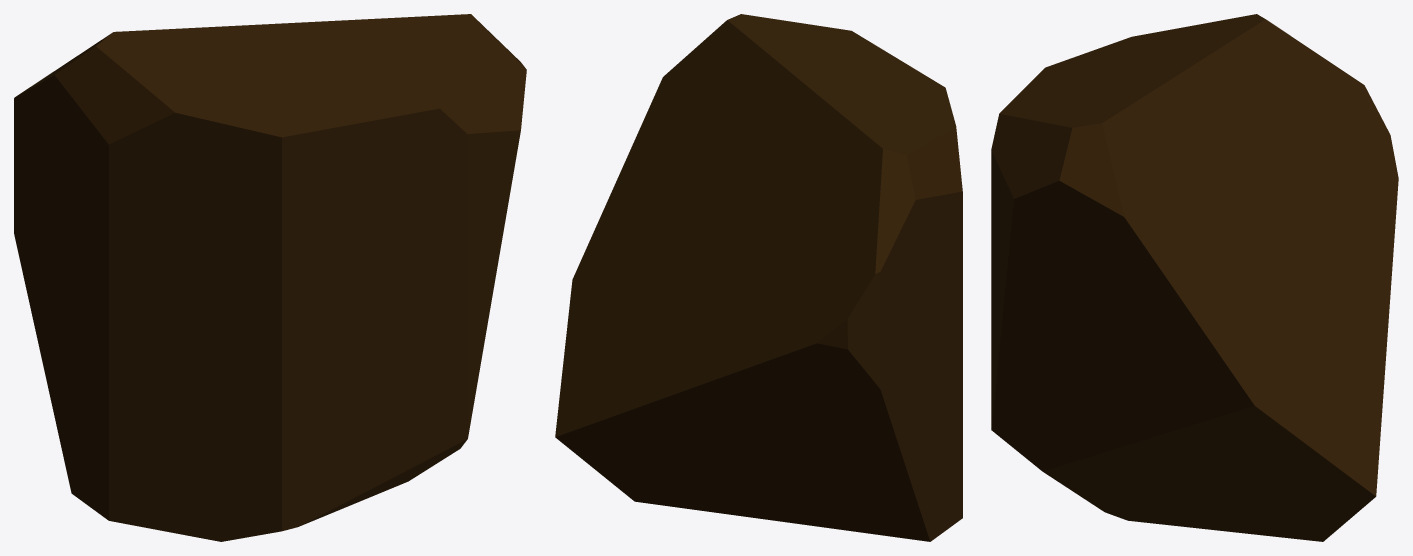
Rendered from Debris3.glb.
The picture shows the model from 3 angles, left to right: view 1: azimuth 30°, elevation 25°; view 2: azimuth 150°, elevation 25°; view 3: azimuth 270°, elevation 25°; orthographic projection. The views are drawn at different scales.
Visible parts, largest first — view 1: Cylinder_cell.003; view 2: Cylinder_cell.003; view 3: Cylinder_cell.003.
Boxes of the visible parts, x1,y1,x2,y2 form: Cylinder_cell.003: (14, 14, 526, 541); Cylinder_cell.003: (555, 14, 962, 541); Cylinder_cell.003: (991, 14, 1398, 541).
Size of the model in its own units: 1.75 by 1.88 by 1.63.
